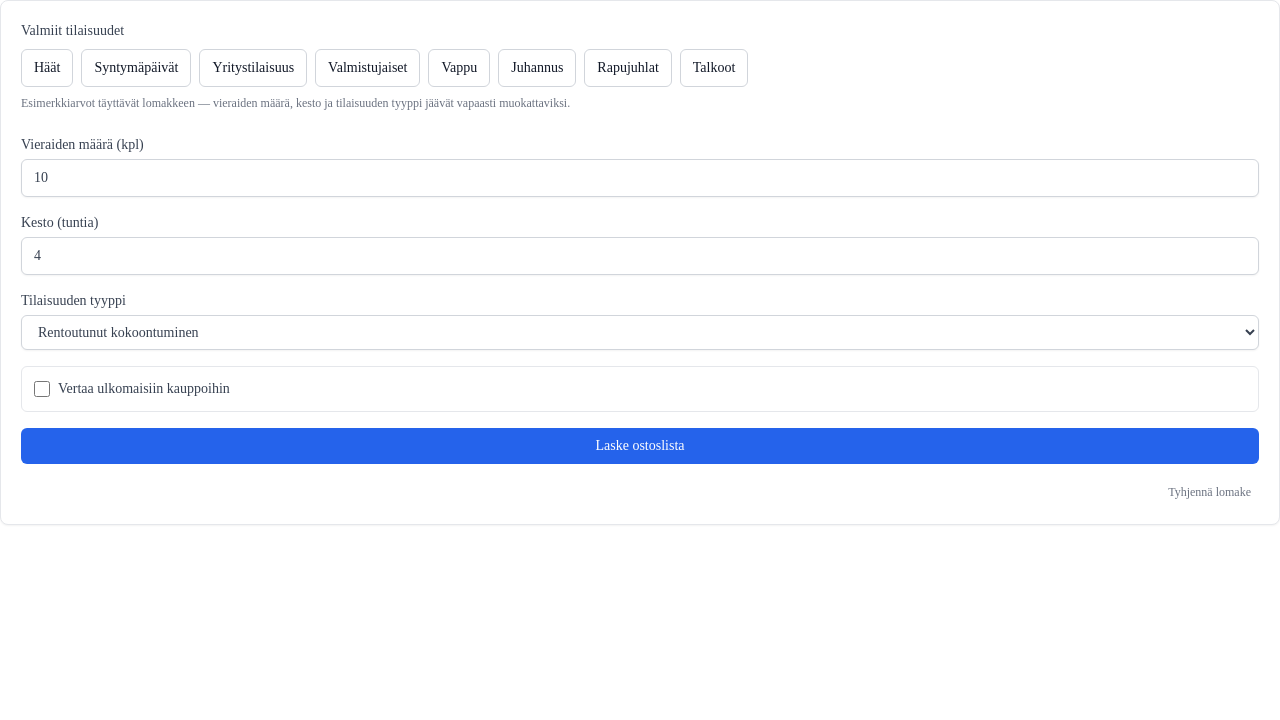
it: EventView seasonal occasion templates (2.1) › applying a seasonal template fills guests, duration, and the seasonal profile
What coordinates should you click on to do the following:
click the button with test id "event-template-juhannus"
I would click on:
 (537, 68)
Its box is [498, 49, 576, 87].
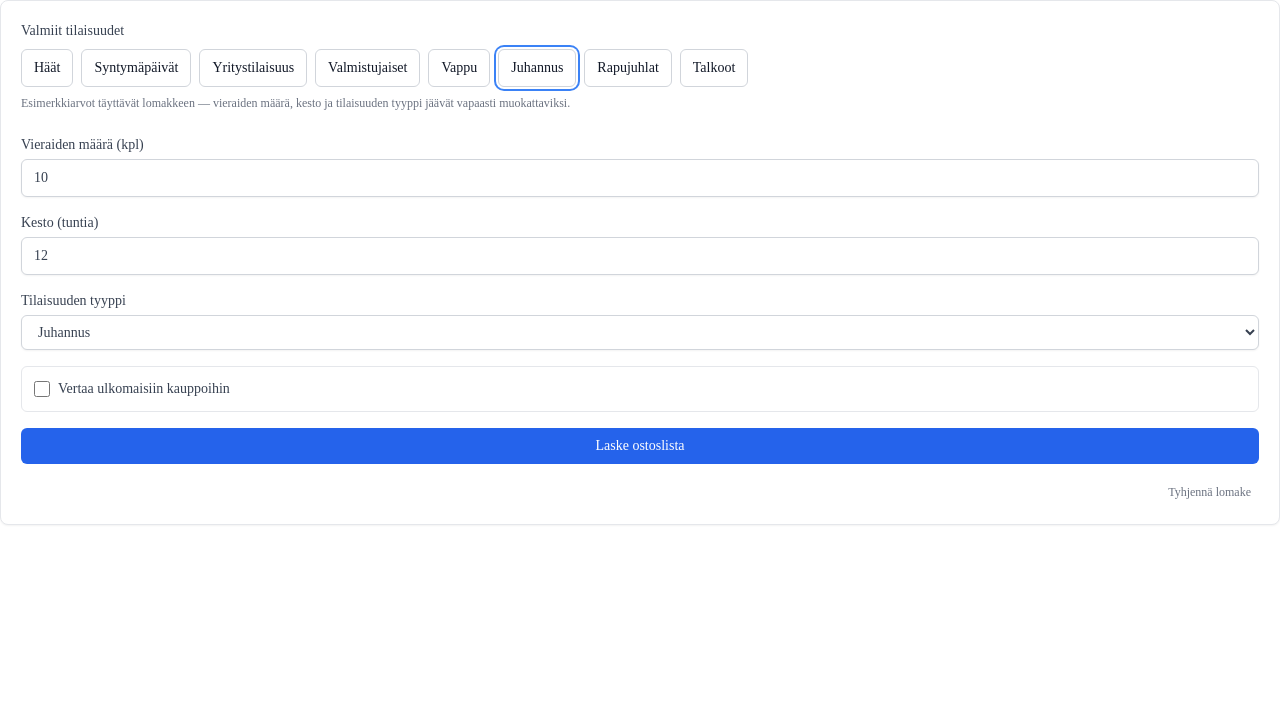
Expected: the number field labelled "Vieraiden määrä (kpl)" holds "10", [21, 159, 1259, 197]
Now the number field labelled "Kesto (tuntia)" holds "12", box [21, 237, 1259, 275]
Now the dropdown with id "event-profile" shows "Juhannus", box [21, 315, 1259, 350]
